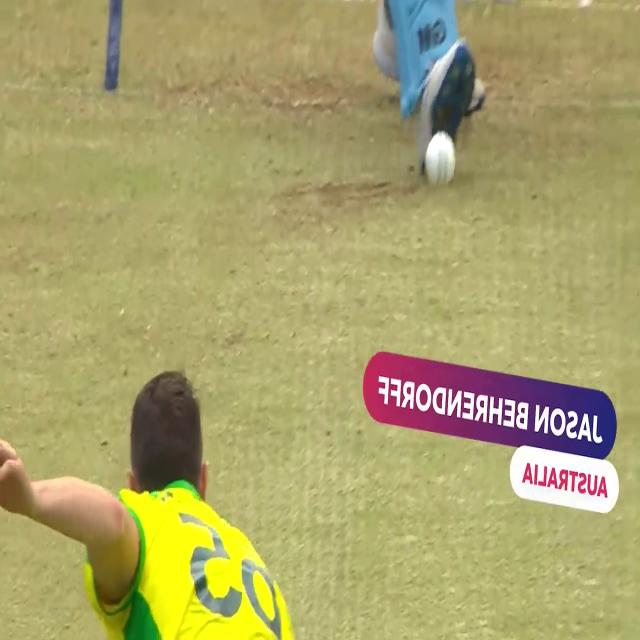ball: (423, 124, 459, 194)
